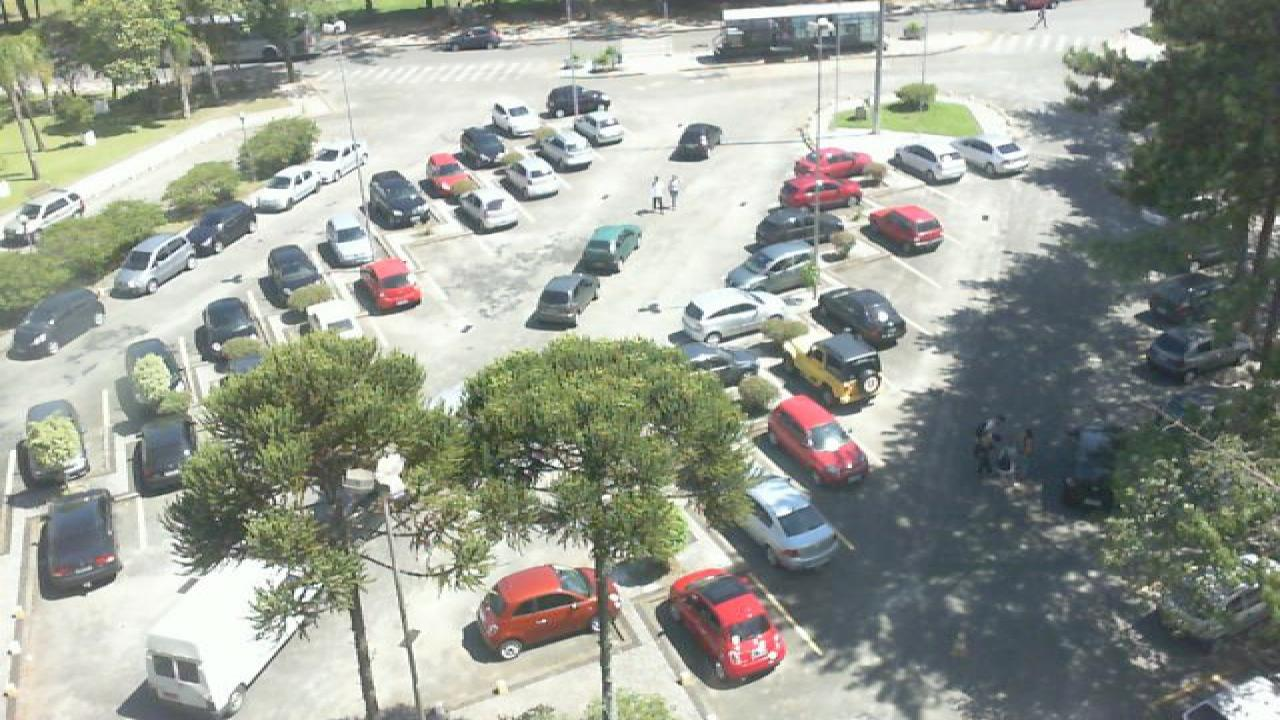Car: (140, 567, 304, 720), (668, 568, 790, 689), (478, 564, 624, 662), (734, 472, 844, 570), (758, 392, 868, 490), (36, 488, 124, 596), (786, 334, 888, 411), (4, 288, 106, 361), (1136, 325, 1256, 383), (680, 287, 798, 345), (18, 398, 92, 490), (812, 287, 910, 351), (130, 406, 198, 498), (122, 336, 190, 420), (112, 231, 198, 297), (726, 240, 830, 292), (668, 334, 764, 389), (2, 187, 86, 244), (756, 204, 852, 248), (200, 294, 260, 364), (182, 200, 256, 256), (530, 272, 600, 330), (262, 244, 326, 307), (866, 205, 948, 254), (356, 255, 424, 313), (364, 170, 428, 231), (250, 161, 322, 214), (572, 222, 644, 274), (420, 150, 488, 202), (456, 181, 522, 234), (316, 210, 374, 269), (494, 152, 562, 200), (894, 140, 968, 184), (958, 135, 1030, 178), (778, 176, 868, 210), (782, 146, 864, 182), (532, 126, 596, 171), (302, 140, 370, 182), (454, 124, 514, 168), (302, 298, 362, 342), (568, 109, 626, 147), (670, 122, 724, 162), (488, 100, 546, 137), (544, 84, 610, 115)
